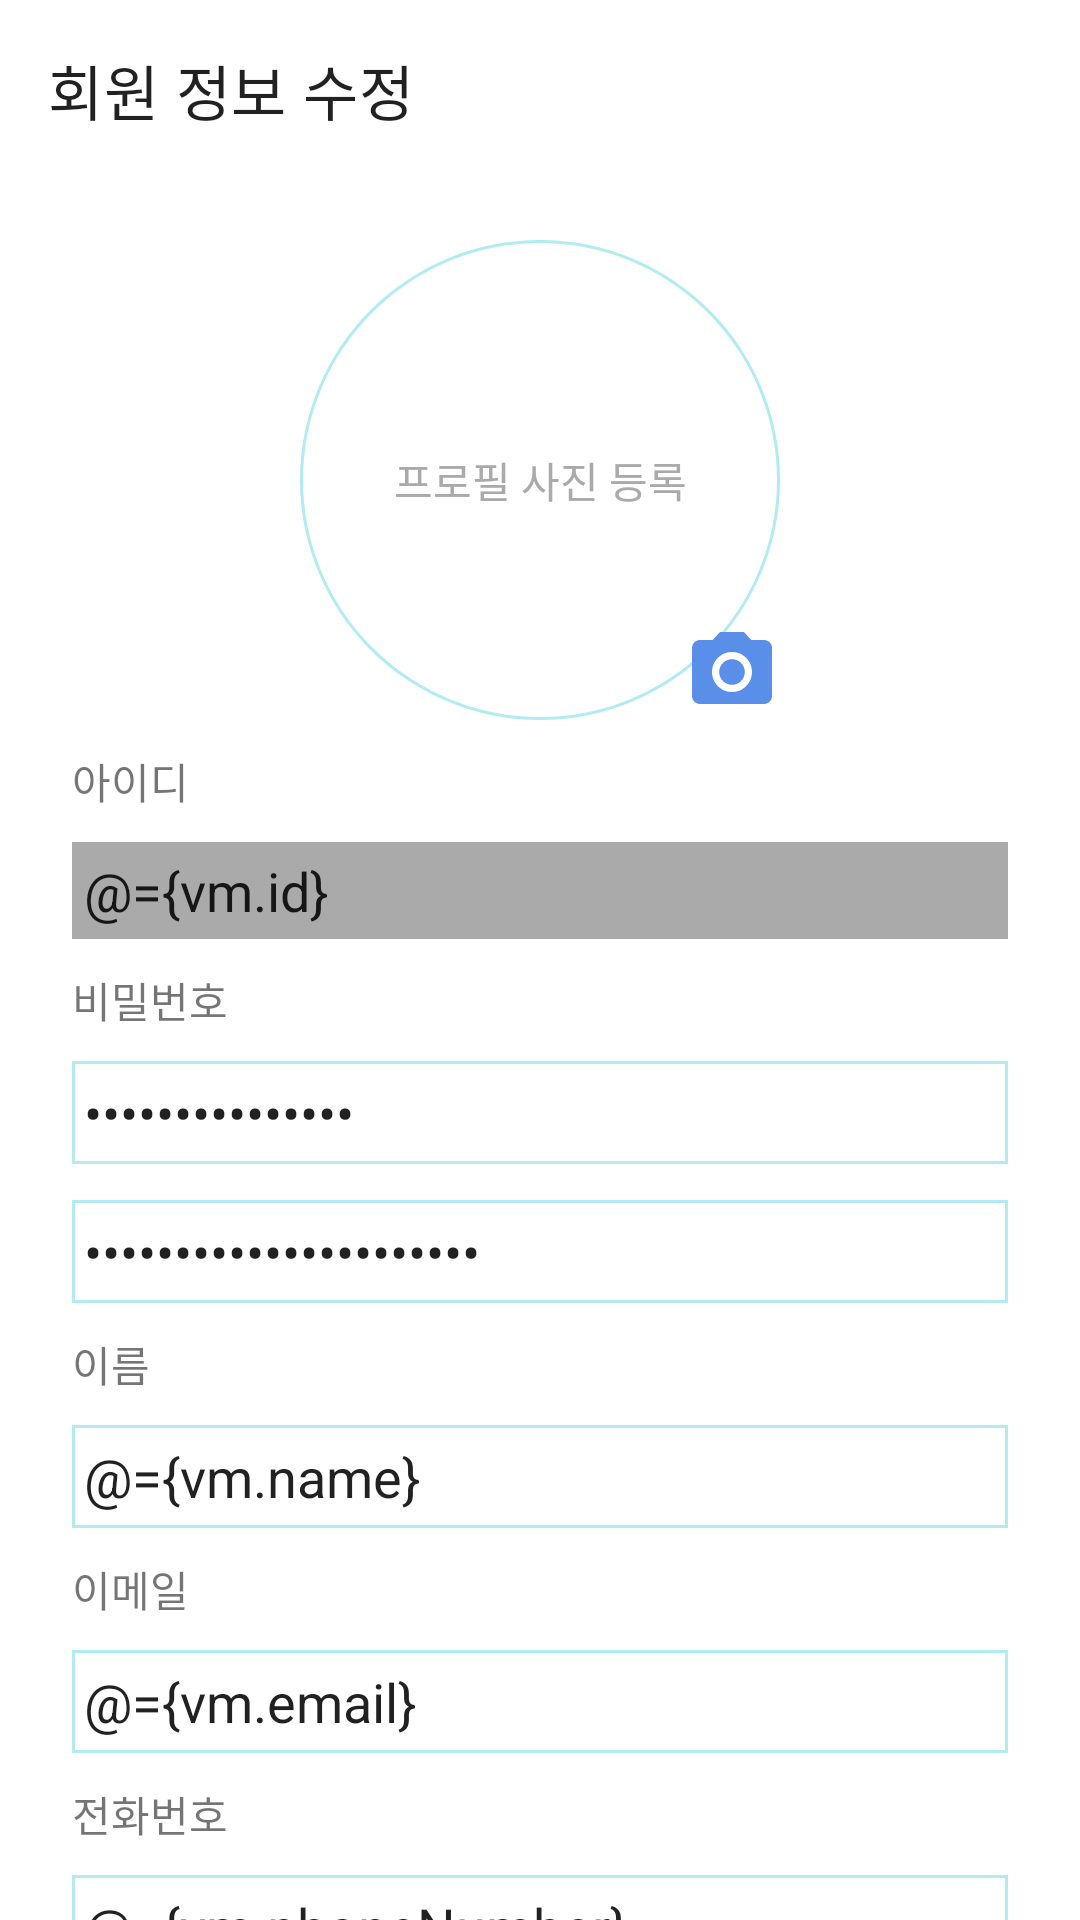

Named icons in this screenshot (1080 x 1920) and their bounding boxes, (left=x1, top=y1, right=x2, bottom=y2):
photo: (left=684, top=624, right=772, bottom=704)
